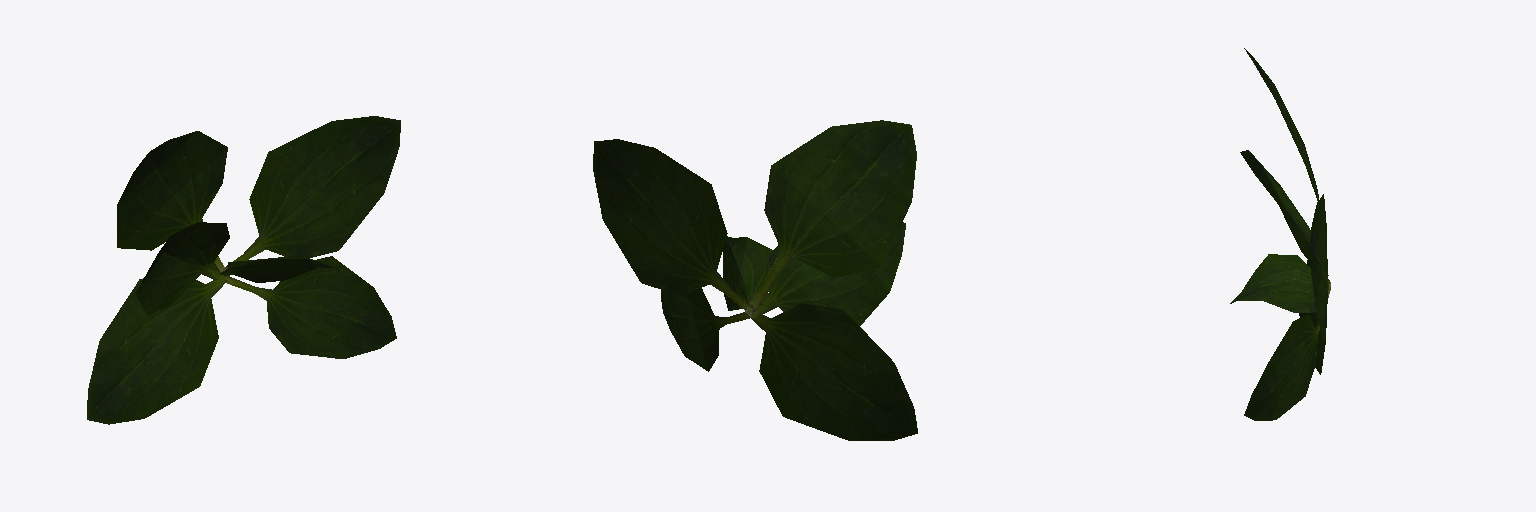
3 views of the same model, side by side, from view 1: azimuth 30°, elevation 25°; view 2: azimuth 150°, elevation 25°; view 3: azimuth 270°, elevation 25° (orthographic).
Size of the model in its own units: 0.1747 by 0.1574 by 0.049.
1 materials, 1 textured.